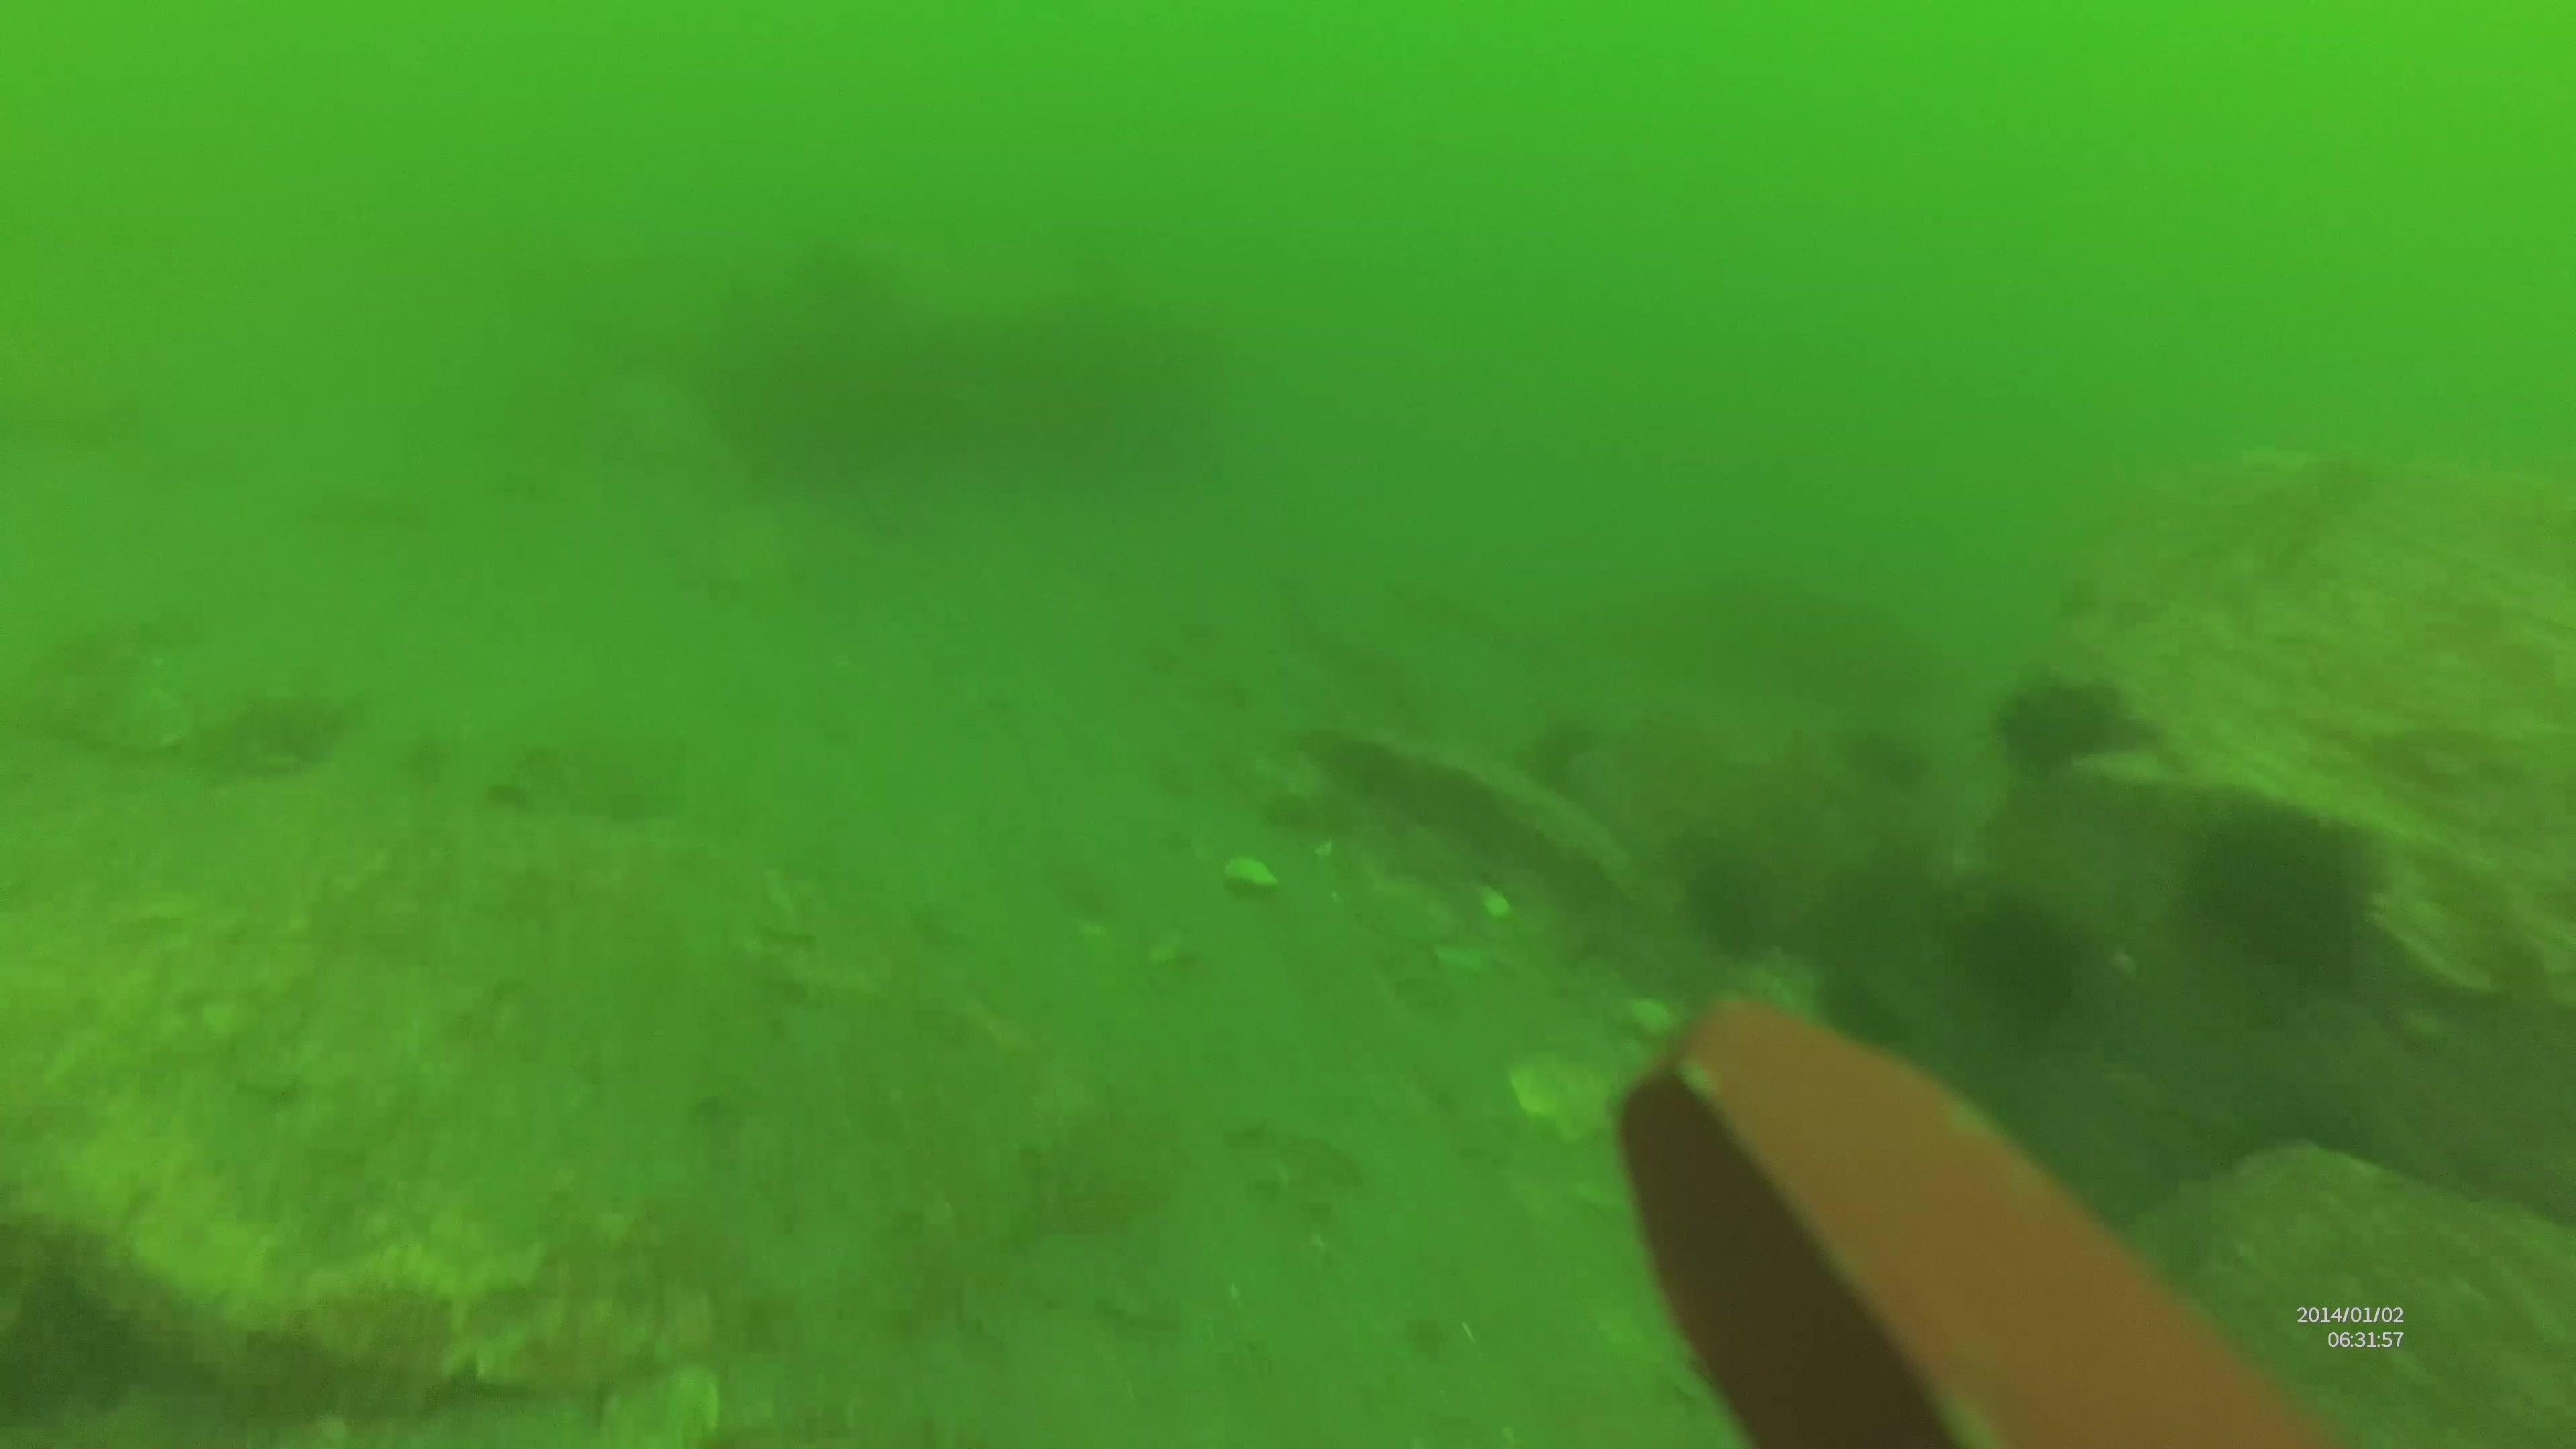echinus: (2160, 824, 2360, 982), (1936, 888, 2077, 1035), (1996, 678, 2118, 775)
